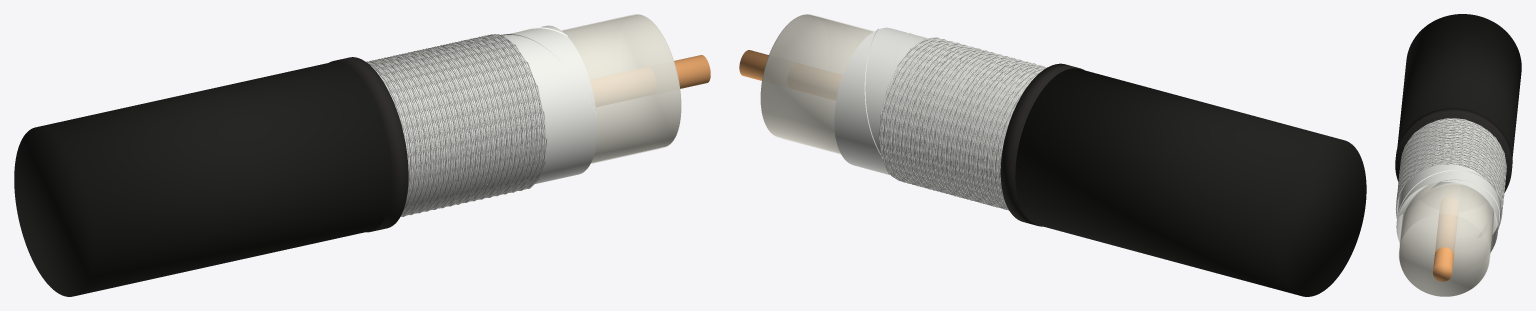
Rendered from rf-belden1505a.glb.
3 views of the same model, side by side, from view 1: azimuth 30°, elevation 25°; view 2: azimuth 150°, elevation 25°; view 3: azimuth 270°, elevation 25° (orthographic). The views are drawn at different scales.
Visible parts, largest first — view 1: matte black pvc jacket body, duobond foil sleeve, smooth dielectric skin, gas injected foam dielectric, jacket cut lip, braid left hand carrier 08, braid left hand carrier 11, braid left hand carrier 09, braid left hand carrier 12, braid left hand carrier 06, braid left hand carrier 14, braid left hand carrier 05 (+30 smaller); view 2: matte black pvc jacket body, duobond foil sleeve, gas injected foam dielectric, smooth dielectric skin, jacket cut lip, braid left hand carrier 03, braid left hand carrier 05, braid left hand carrier 02, braid left hand carrier 06, braid left hand carrier 08, braid left hand carrier 18, braid left hand carrier 17 (+30 smaller); view 3: matte black pvc jacket body, gas injected foam dielectric, smooth dielectric skin, duobond foil sleeve, jacket cut lip, solid center conductor continuous, braid left hand carrier 06, braid left hand carrier 03, braid left hand carrier 09, subtle foil wrap lap, braid left hand carrier 18, braid left hand carrier 05 (+31 smaller).
Boxes of the visible parts, x1,y1,x2,y2 form: matte black pvc jacket body: (14, 61, 392, 296); duobond foil sleeve: (379, 25, 597, 209); smooth dielectric skin: (561, 14, 680, 163); gas injected foam dielectric: (562, 14, 681, 162); jacket cut lip: (329, 57, 408, 232); braid left hand carrier 08: (366, 34, 533, 213); braid left hand carrier 11: (376, 34, 538, 212); braid left hand carrier 09: (369, 34, 535, 212); braid left hand carrier 12: (372, 39, 540, 213); braid left hand carrier 06: (366, 35, 530, 213); braid left hand carrier 14: (377, 39, 543, 215); braid left hand carrier 05: (367, 36, 528, 215); matte black pvc jacket body: (1015, 68, 1366, 296); duobond foil sleeve: (834, 27, 1031, 196); gas injected foam dielectric: (760, 14, 872, 153); smooth dielectric skin: (761, 14, 873, 154); jacket cut lip: (1000, 63, 1084, 226); braid left hand carrier 03: (884, 41, 1034, 209); braid left hand carrier 05: (881, 40, 1042, 207); braid left hand carrier 02: (885, 41, 1035, 210); braid left hand carrier 06: (879, 39, 1044, 209); braid left hand carrier 08: (880, 39, 1046, 207); braid left hand carrier 18: (889, 42, 1035, 209); braid left hand carrier 17: (890, 42, 1035, 205); matte black pvc jacket body: (1397, 14, 1521, 159); gas injected foam dielectric: (1399, 182, 1493, 296); smooth dielectric skin: (1399, 182, 1493, 281); duobond foil sleeve: (1396, 130, 1500, 252); jacket cut lip: (1395, 108, 1512, 192); solid center conductor continuous: (1433, 214, 1457, 281); braid left hand carrier 06: (1399, 122, 1506, 229); braid left hand carrier 03: (1398, 120, 1505, 211); braid left hand carrier 09: (1397, 123, 1505, 200); subtle foil wrap lap: (1396, 170, 1500, 237); braid left hand carrier 18: (1397, 118, 1506, 206); braid left hand carrier 05: (1396, 121, 1506, 225).
Bounding box in the file's own units: 6.53 × 1.55 × 1.68.
